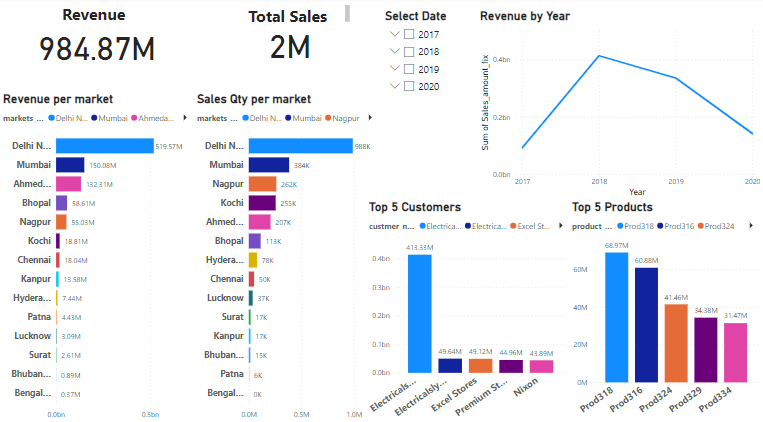

The dashboard page shown, as its layout file describes it:
{"tool":"powerbi","page":{"name":"Page 1","canvas":[1280,720],"ordinal":0},"visuals":[{"type":"card","title":"Revenue","fields":{"Values":["Sum(sales transactions.Sales_amount_fix)"]},"box":[0,0,325.5,159.4],"z":0},{"type":"card","title":"Total Sales","fields":{"Values":["Sum(sales transactions.sales_qty)"]},"box":[323.8,0,325.5,152.7],"z":1000},{"type":"slicer","title":"Select Date","fields":{"Values":["sales date.year","sales date.month_name"]},"box":[640.8,0,159.4,340.6],"z":3001},{"type":"barChart","title":"Revenue per market","fields":{"Category":["sales markets.markets_name"],"Series":["sales markets.markets_name"],"Y":["Sum(sales transactions.Sales_amount_fix)"]},"box":[0,160,325.7,560],"z":3002},{"type":"barChart","title":"Sales Qty per market","fields":{"Category":["sales markets.markets_name"],"Series":["sales markets.markets_name"],"Y":["Sum(sales transactions.sales_qty)"]},"box":[325.5,159.4,315.4,560.3],"z":3003},{"type":"columnChart","title":"Top 5 Customers","fields":{"Category":["sales customers.custmer_name"],"Y":["Sum(sales transactions.Sales_amount_fix)"],"Series":["sales customers.custmer_name"]},"box":[614,340.6,340.6,379.1],"z":3004},{"type":"columnChart","title":"Top 5 Products","fields":{"Y":["Sum(sales transactions.Sales_amount_fix)"],"Category":["sales transactions.product_code"],"Series":["sales transactions.product_code"]},"box":[954.5,340.6,325.5,379.1],"z":3005},{"type":"lineChart","title":"Revenue by Year","fields":{"Y":["Sum(sales transactions.Sales_amount_fix)"],"Category":["sales date.date.Variation.Date Hierarchy.Year"]},"box":[800.2,0,479.8,340.6],"z":3006},{"type":"textbox","box":[99,0,127.5,60.4],"z":3007},{"type":"textbox","box":[419.4,0,149.3,60.4],"z":3008}]}

Visuals, with their boxes in screenshot pixels (x1, y1, x2, y2), scaled from the page's 1280x720 canvas onto the 763x422 screenshot:
"Revenue" card: 0/0/194/93
"Total Sales" card: 193/0/387/89
"Select Date" slicer: 382/0/477/200
"Revenue per market" barChart: 0/94/194/421
"Sales Qty per market" barChart: 194/93/382/421
"Top 5 Customers" columnChart: 366/200/569/421
"Top 5 Products" columnChart: 569/200/762/421
"Revenue by Year" lineChart: 477/0/762/200
textbox: 59/0/135/35
textbox: 250/0/339/35
